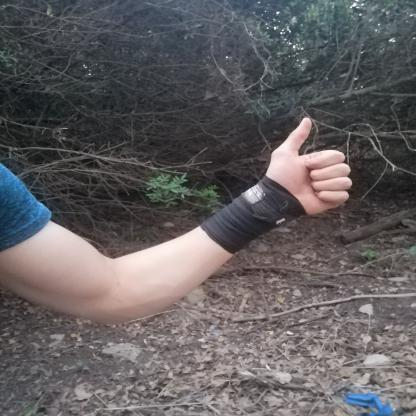ALIF: (244, 107, 362, 226)
